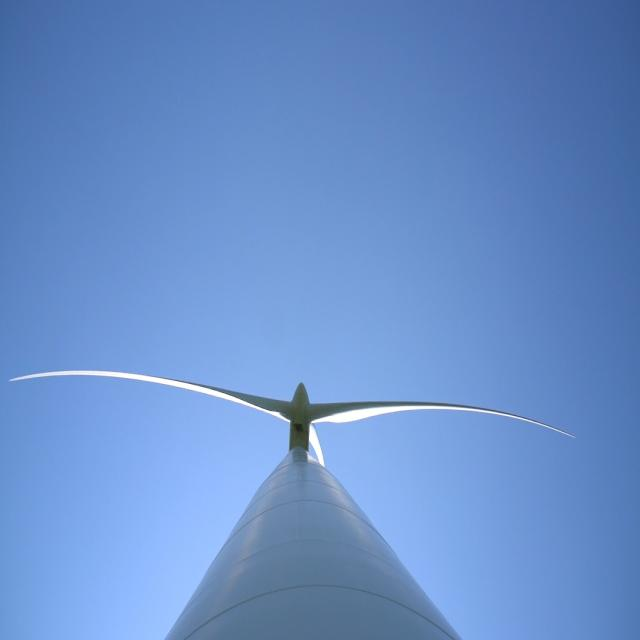blade 1: (330, 364, 580, 464)
blade 2: (310, 424, 326, 461)
blade 3: (10, 354, 272, 424)
